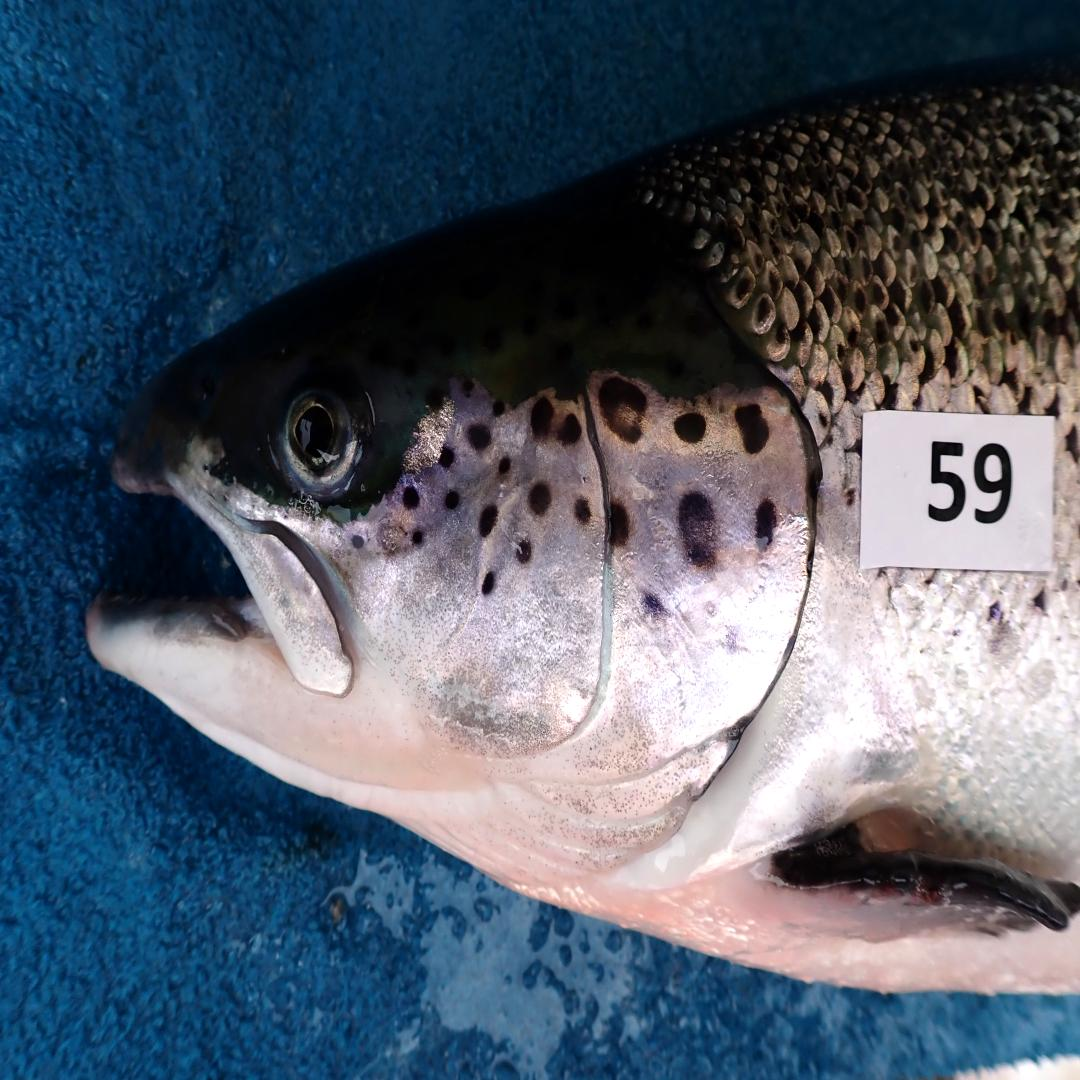roi: (347, 368, 819, 891)
